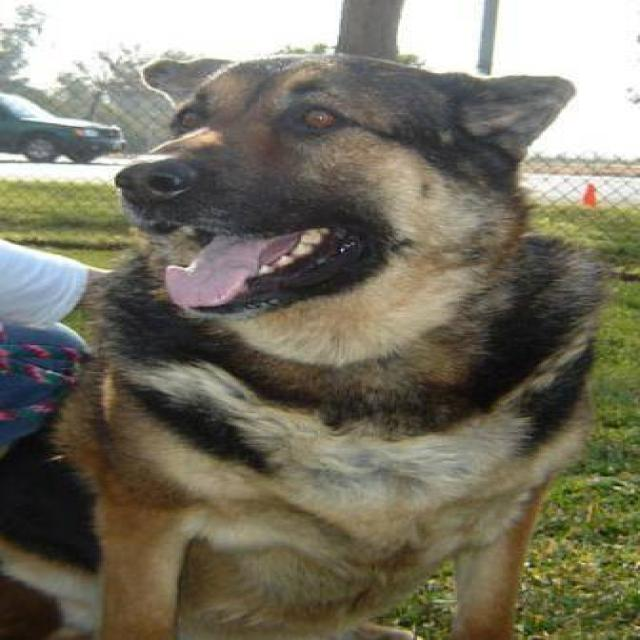dog: (6, 50, 613, 639)
